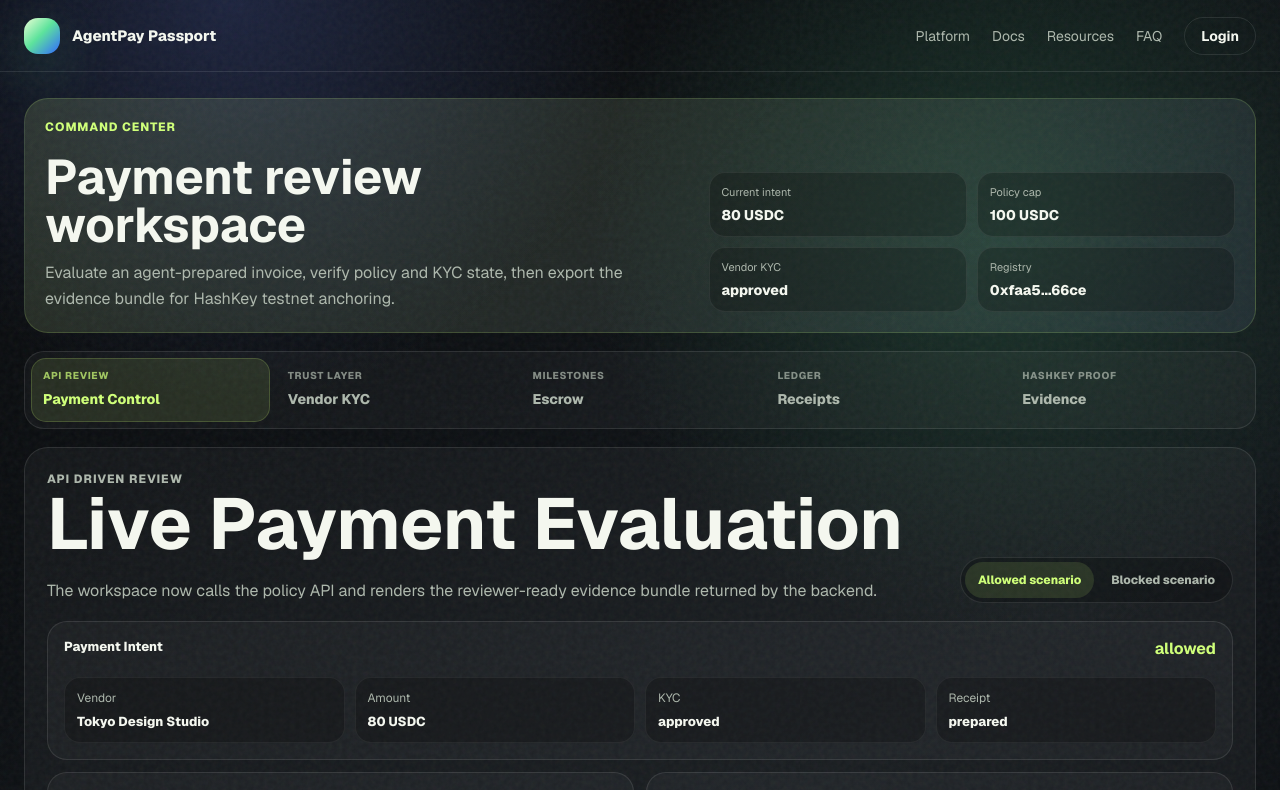
Test case: live evaluation panel › loads a live policy evaluation and can switch to a blocked scenario
The image size is (1280, 790).
Check: the heading "Live Payment Evaluation" is shown, box [47,489,903,558]
Check: the text "prepared" is shown, box [948,713,1008,730]
Click the button "Blocked scenario": (1163, 580) [1098,562,1228,598]
(page scrolled)
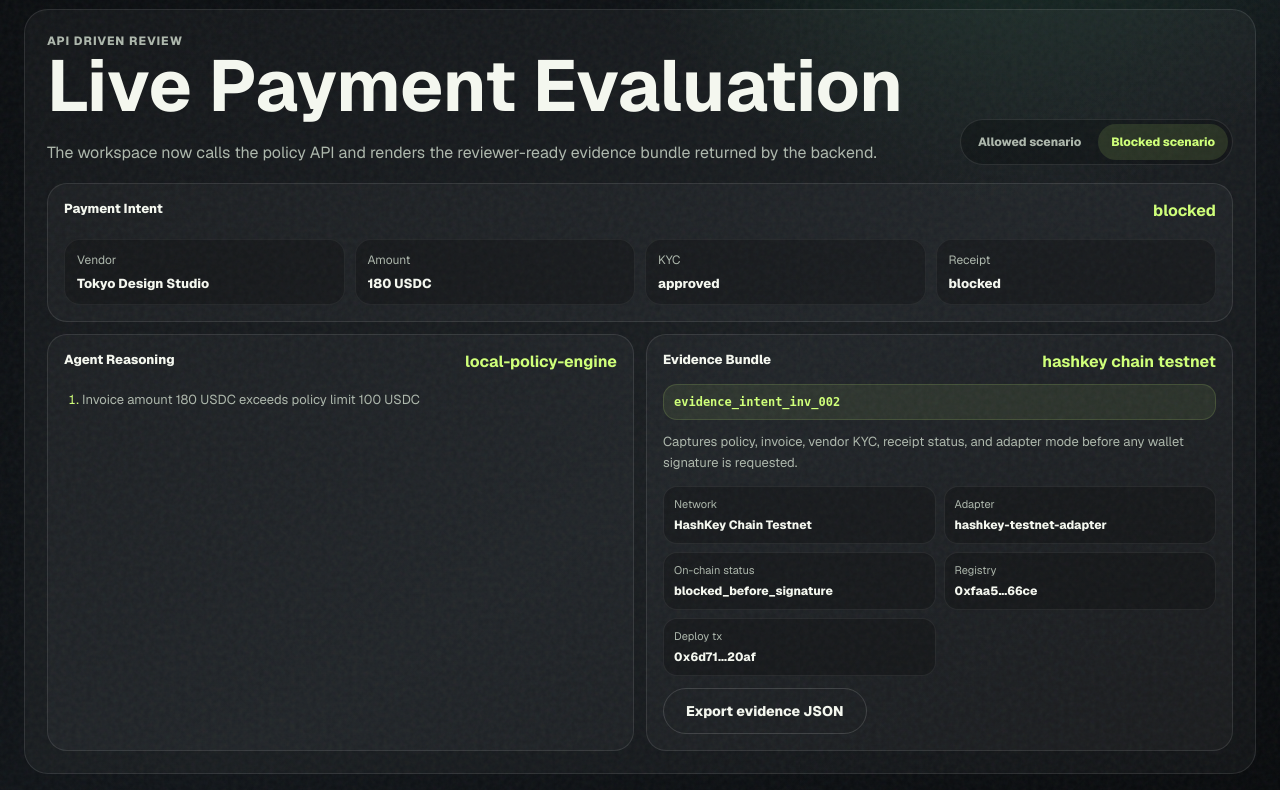
Check: the text "evidence_intent_inv_002" is shown, box [663,384,1216,420]
Check: the text "blocked" in the row of "Payment Intent" is shown, box [1153,200,1216,221]
Check: the text "blocked_before_signature" is shown, box [674,583,833,599]
